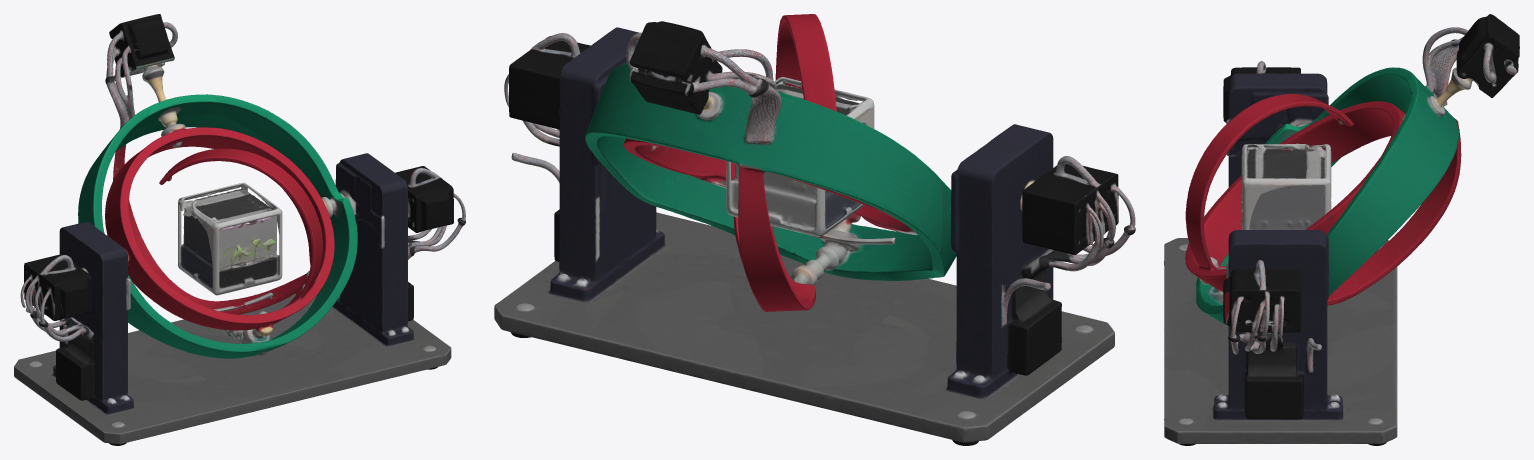
Rendered from clinostat_2axis.glb.
3 views of the same model, side by side, from view 1: azimuth 30°, elevation 25°; view 2: azimuth 150°, elevation 25°; view 3: azimuth 270°, elevation 25° (orthographic). The views are drawn at different scales.
Bounding box in the file's own units: 1.9 × 1.24 × 1.2.
1 material, 1 textured.
